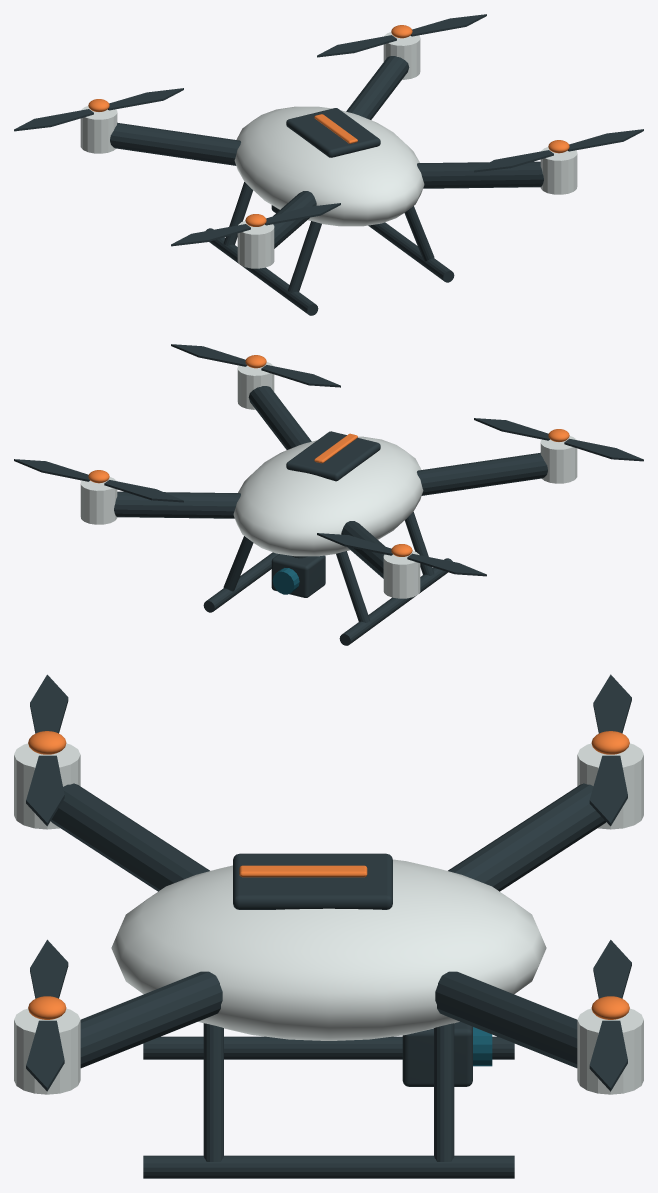
Rendered from opencity-drone.glb.
The picture shows the model from 3 angles, top to bottom: view 1: azimuth 30°, elevation 25°; view 2: azimuth 150°, elevation 25°; view 3: azimuth 270°, elevation 25°; orthographic projection. The views are drawn at different scales.
Parts seen in each view (by area): view 1: Aerodynamic hull, Carbon arm 0, Carbon arm 2, Battery cover, Carbon arm 1, Motor 3, Motor 2, Motor 0, Landing skid, Landing skid.001, Motor 1, Carbon arm 3 (+11 smaller); view 2: Aerodynamic hull, Carbon arm 3, Carbon arm 1, Battery cover, Carbon arm 2, Camera gimbal, Motor 0, Motor 1, Motor 3, Landing skid, Motor 2, Landing skid.001 (+13 smaller); view 3: Aerodynamic hull, Landing skid.001, Battery cover, Carbon arm 1, Carbon arm 2, Carbon arm 3, Carbon arm 0, Landing skid, Motor 2, Motor 1, Camera gimbal, Landing strut.002 (+17 smaller).
Boxes of the visible parts, x1,y1,x2,y2 form: Aerodynamic hull: (234, 106, 424, 226); Carbon arm 0: (110, 122, 240, 165); Carbon arm 2: (417, 161, 543, 188); Battery cover: (286, 108, 380, 157); Carbon arm 1: (346, 56, 409, 119); Motor 3: (237, 221, 274, 268); Motor 2: (540, 147, 577, 194); Motor 0: (80, 106, 117, 153); Landing skid: (205, 228, 318, 315); Landing skid.001: (368, 222, 454, 282); Motor 1: (383, 32, 420, 79); Carbon arm 3: (273, 191, 316, 248); Aerodynamic hull: (233, 436, 423, 556); Carbon arm 3: (417, 452, 547, 495); Carbon arm 1: (114, 491, 240, 518); Battery cover: (286, 431, 380, 481); Carbon arm 2: (248, 386, 311, 449); Camera gimbal: (271, 554, 325, 597); Motor 0: (383, 551, 420, 598); Motor 1: (80, 477, 117, 524); Motor 3: (540, 436, 577, 483); Landing skid: (339, 558, 452, 645); Motor 2: (237, 362, 274, 409); Landing skid.001: (203, 552, 278, 612); Aerodynamic hull: (111, 859, 546, 1040); Landing skid.001: (143, 1155, 514, 1178); Battery cover: (233, 853, 392, 909); Carbon arm 1: (435, 971, 577, 1068); Carbon arm 2: (80, 971, 222, 1068); Carbon arm 3: (51, 783, 209, 891); Carbon arm 0: (448, 783, 605, 891); Landing skid: (143, 1036, 514, 1059); Motor 2: (14, 1008, 80, 1094); Motor 1: (577, 1008, 643, 1094); Camera gimbal: (402, 1022, 472, 1086); Landing strut.002: (203, 1023, 223, 1161).
Size of the model in its own units: 1.53 by 0.433 by 0.984.
